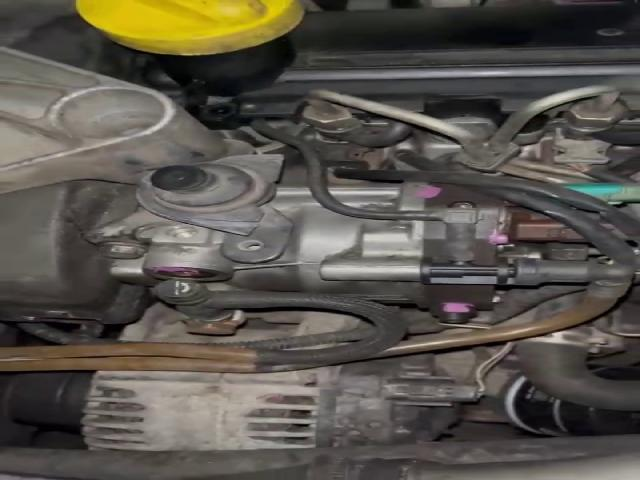alternator: (79, 355, 479, 450)
high_pressure_pump: (98, 177, 563, 321)
